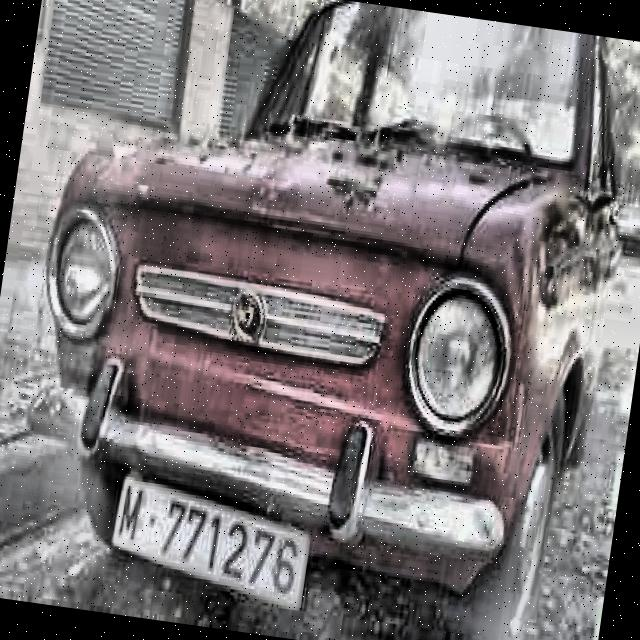license_plate: (107, 471, 314, 616)
